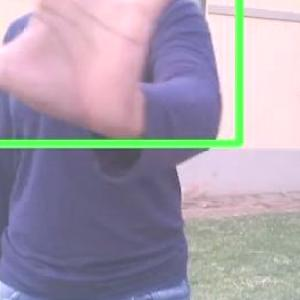follow_hand: (0, 0, 194, 146)
